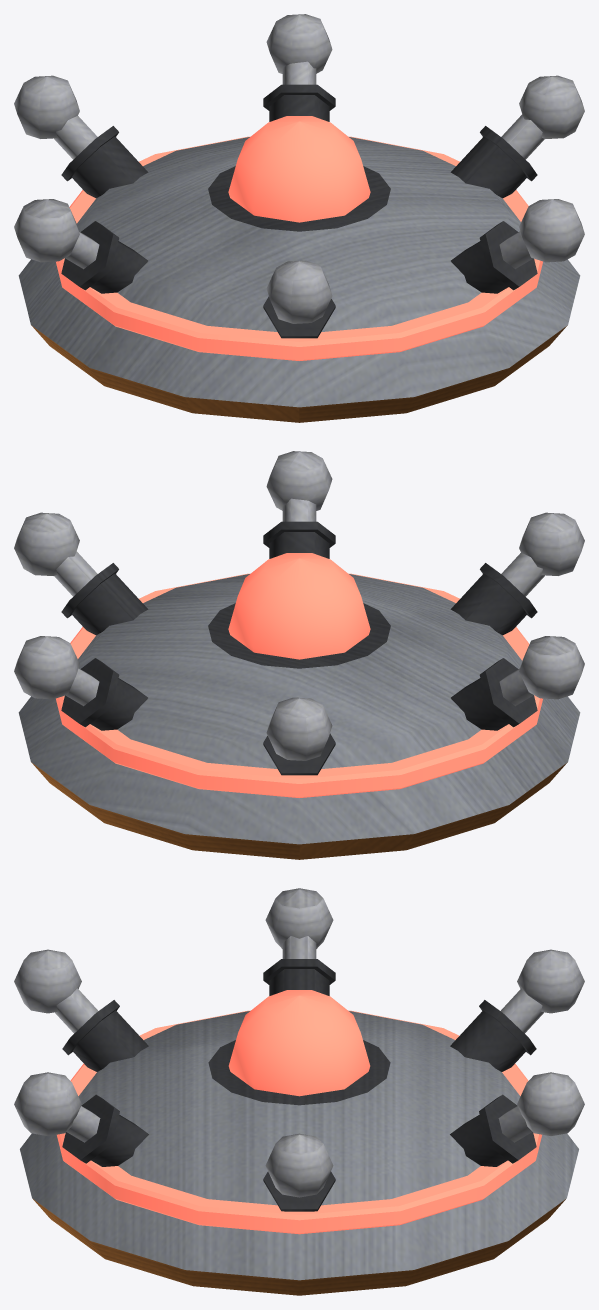
Rendered from R4D_ExplosiveTrap.glb.
3 renders of one model, top to bottom at view 1: azimuth 30°, elevation 25°; view 2: azimuth 150°, elevation 25°; view 3: azimuth 270°, elevation 25°, orthographic.
Parts seen in each view (by area): view 1: R4D_ExplosiveTrap_Body, R4D_ExplosiveTrap_Lamp; view 2: R4D_ExplosiveTrap_Body, R4D_ExplosiveTrap_Lamp; view 3: R4D_ExplosiveTrap_Body, R4D_ExplosiveTrap_Lamp.
Boxes of the visible parts, <box> form: R4D_ExplosiveTrap_Body: <box>14,14,584,422</box>; R4D_ExplosiveTrap_Lamp: <box>228,116,370,222</box>; R4D_ExplosiveTrap_Body: <box>14,451,584,859</box>; R4D_ExplosiveTrap_Lamp: <box>228,553,370,659</box>; R4D_ExplosiveTrap_Body: <box>14,888,584,1295</box>; R4D_ExplosiveTrap_Lamp: <box>228,990,370,1096</box>.
Bounding box in the file's own units: 0.496 × 0.16 × 0.4365.
5 materials, 4 textured.
